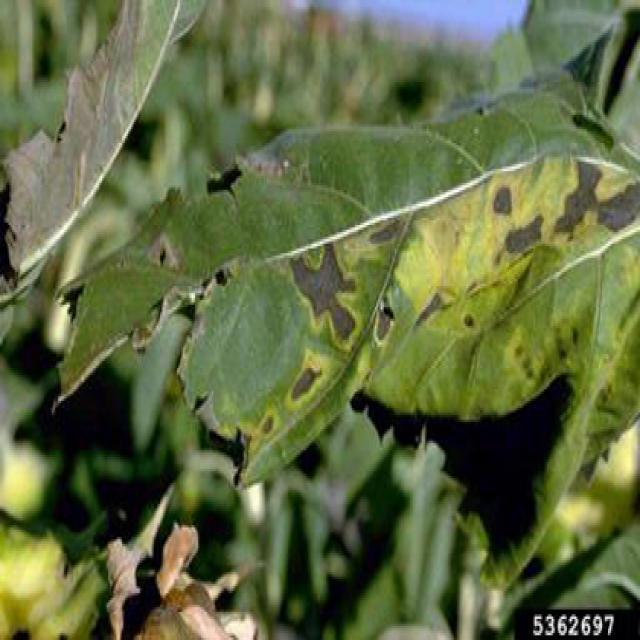Bacterial_Spot: (169, 152, 640, 497), (7, 10, 156, 282)
